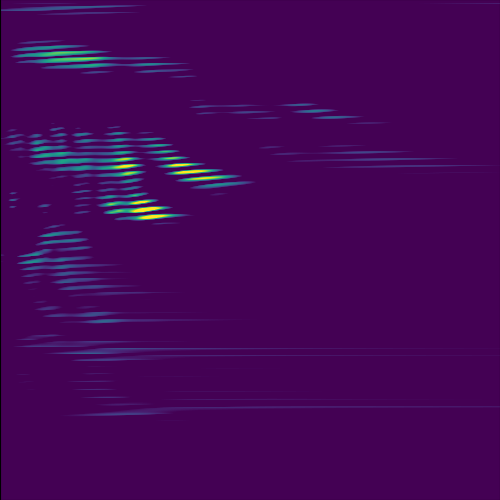semblance: (129, 193, 182, 222), (107, 151, 148, 181), (51, 45, 102, 66)
